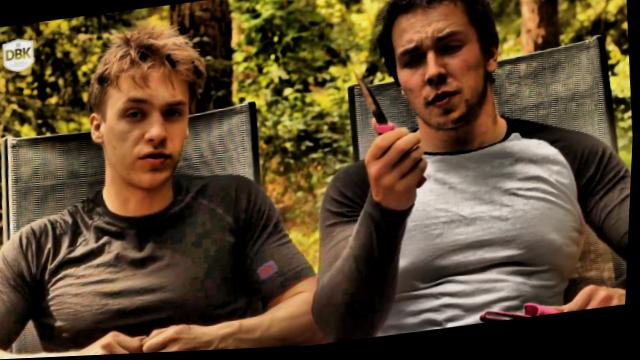knife: (342, 57, 432, 178)
